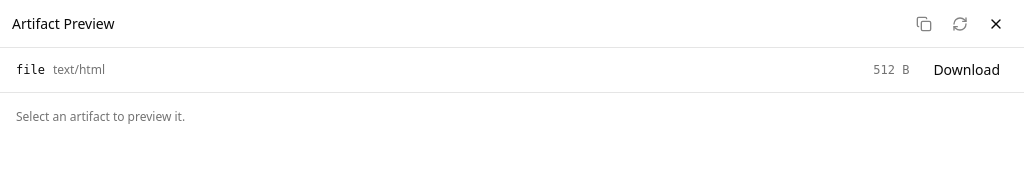
it: ArtifactPreviewPanel › a rendered-view presign failure shows an inline error (no iframe, no toast)
Click the button with test id "artifact-select".
click(79, 70)  # box [8,56,917,84]
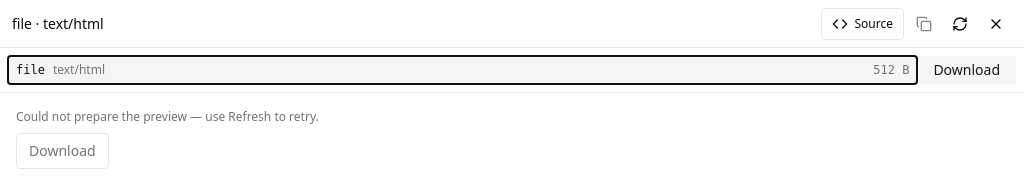
expect the element with test id "preview-presign-error" is shown: met, box [16,108,319,169]
